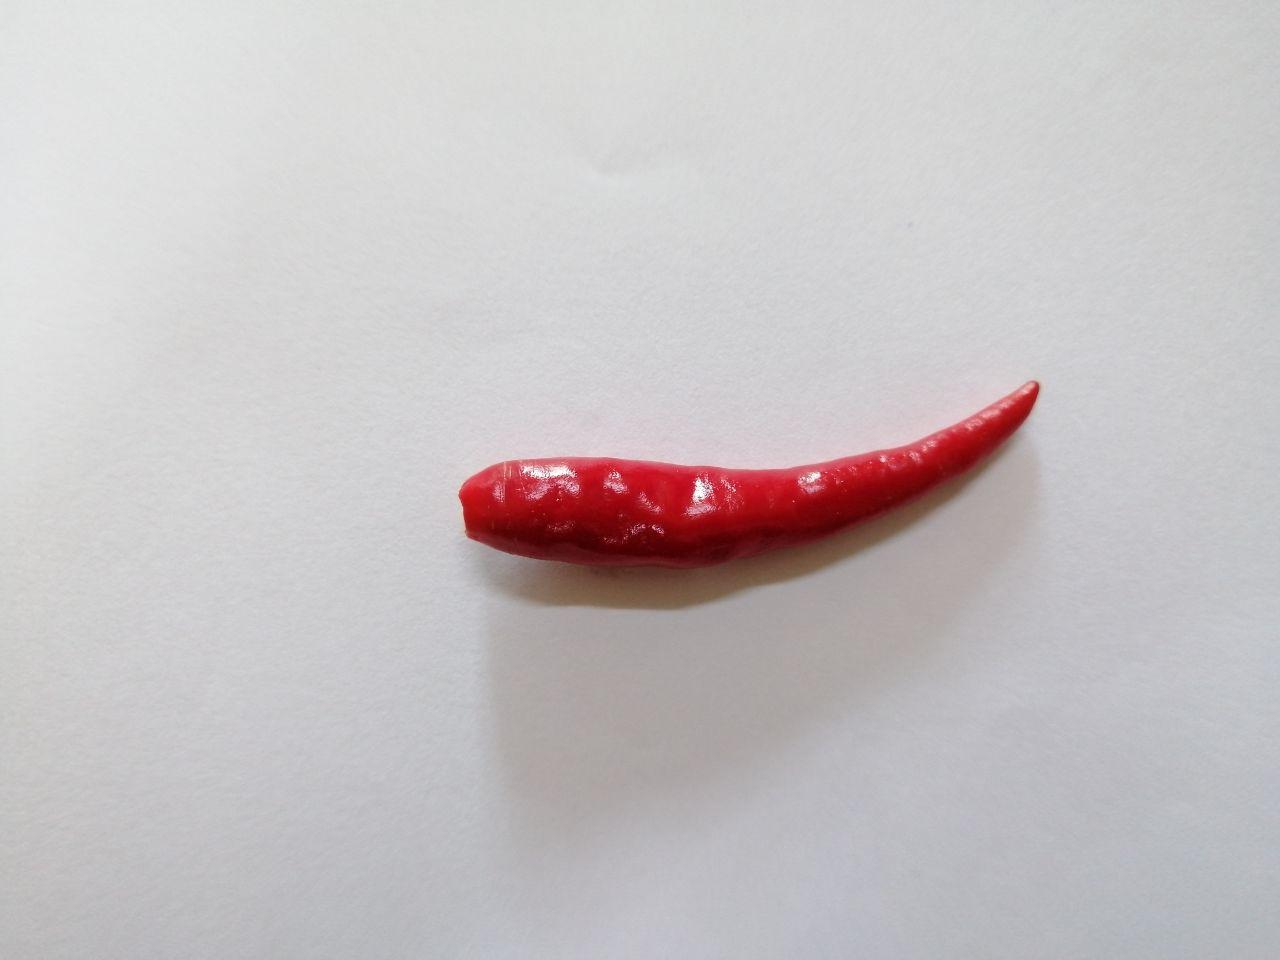lada merah: (450, 365, 1049, 586)
